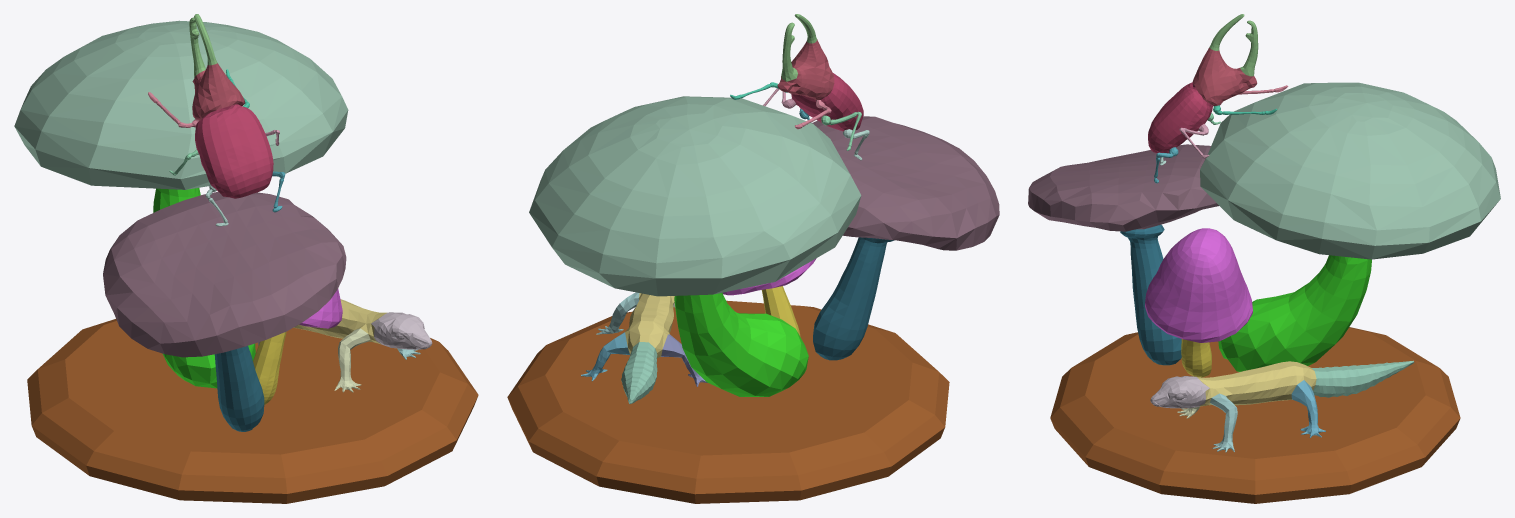
3 renders of one model, left to right at view 1: azimuth 30°, elevation 25°; view 2: azimuth 150°, elevation 25°; view 3: azimuth 270°, elevation 25°, orthographic. The views are drawn at different scales.
Parts seen in each view (by area): view 1: world; view 2: world; view 3: world.
Boxes of the visible parts, <box> form: world: <box>14,14,478,503</box>; world: <box>507,14,999,503</box>; world: <box>1028,14,1500,503</box>.
Bounding box in the file's own units: 0.8615 × 0.8804 × 1.
